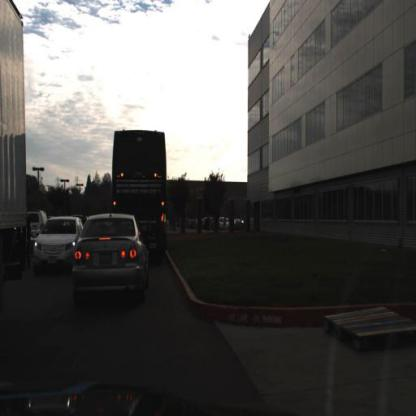car: (67, 211, 146, 284), (30, 215, 86, 265), (219, 214, 234, 232)
truck: (2, 1, 31, 320), (111, 127, 168, 245)
